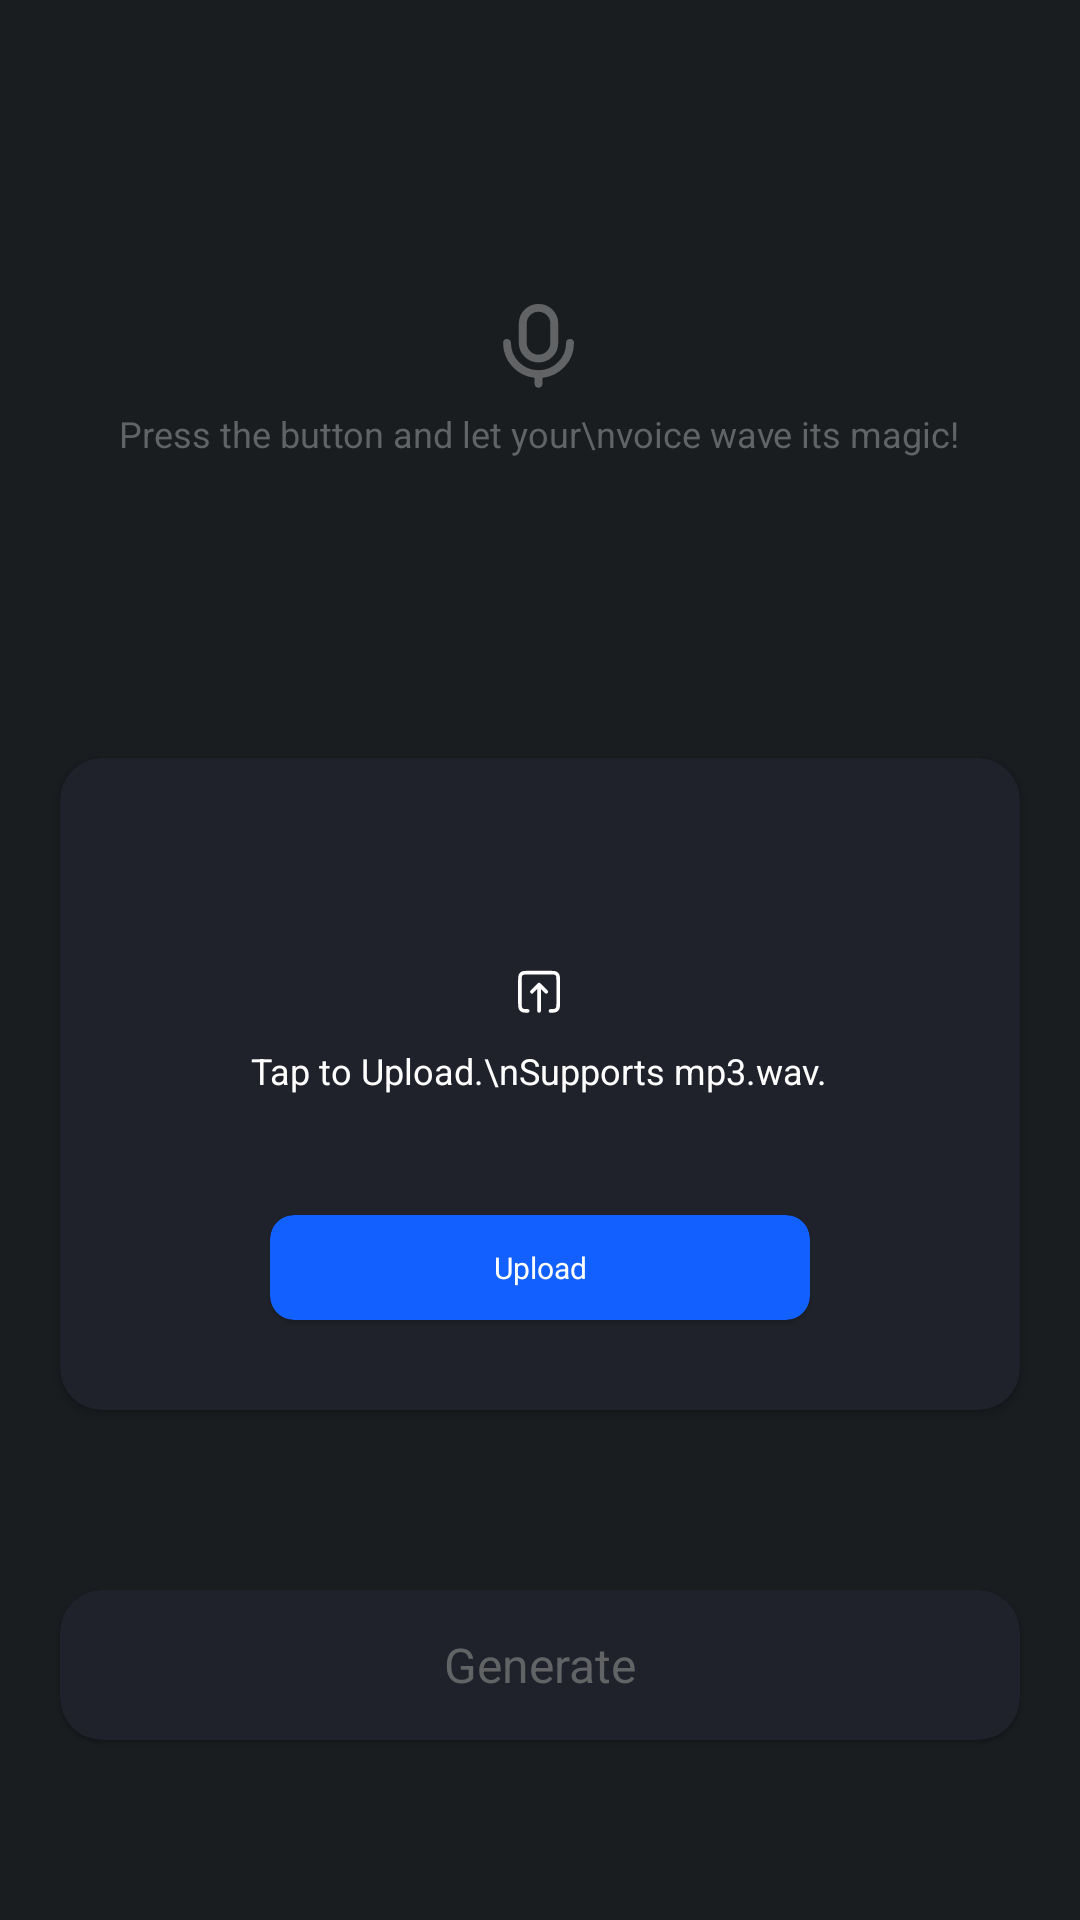

Point at icon controls on the screen. Image size 1080 × 1920, points as (x,y).
mic: (538,346)
